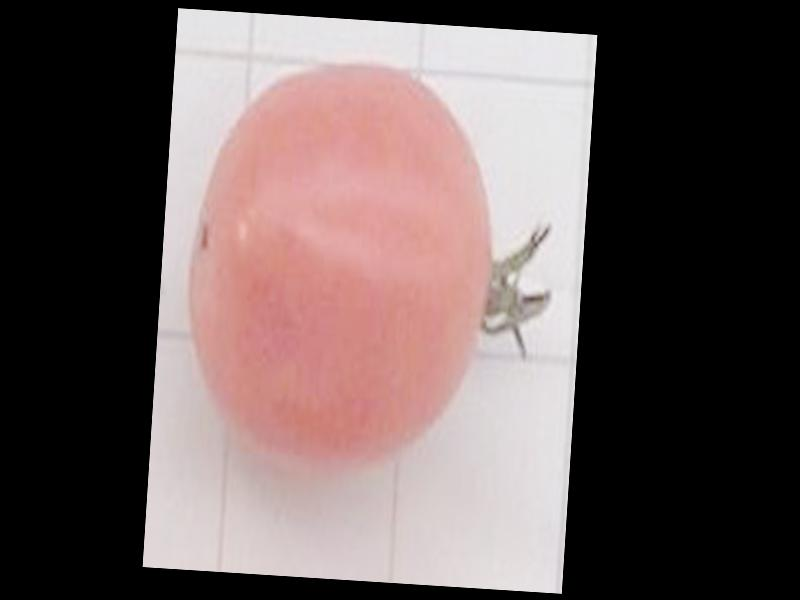Tomato: (176, 54, 502, 481)
